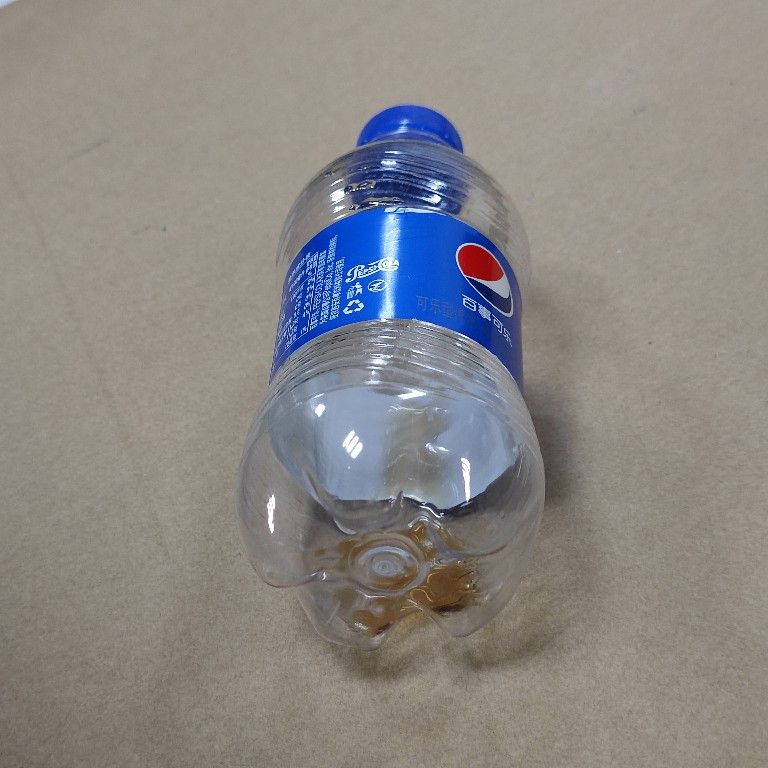bottle: (226, 98, 549, 657)
